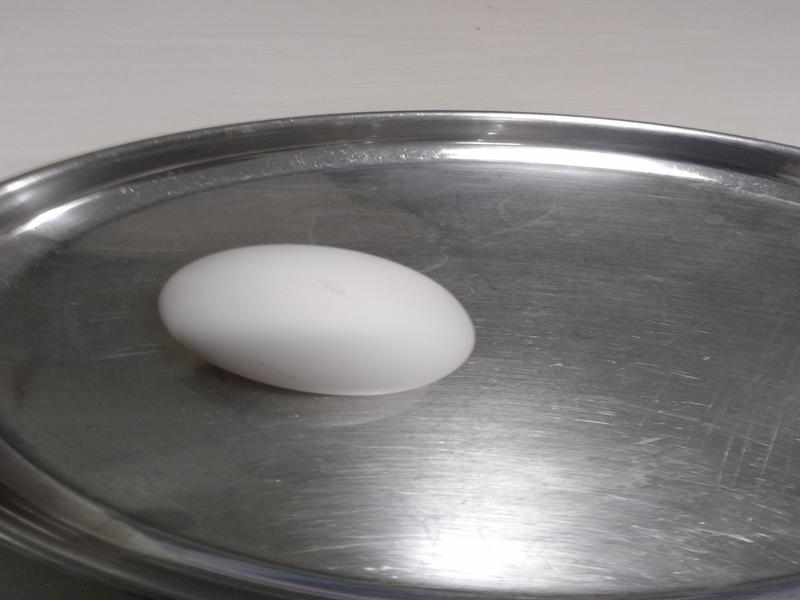egg: (154, 243, 468, 389)
